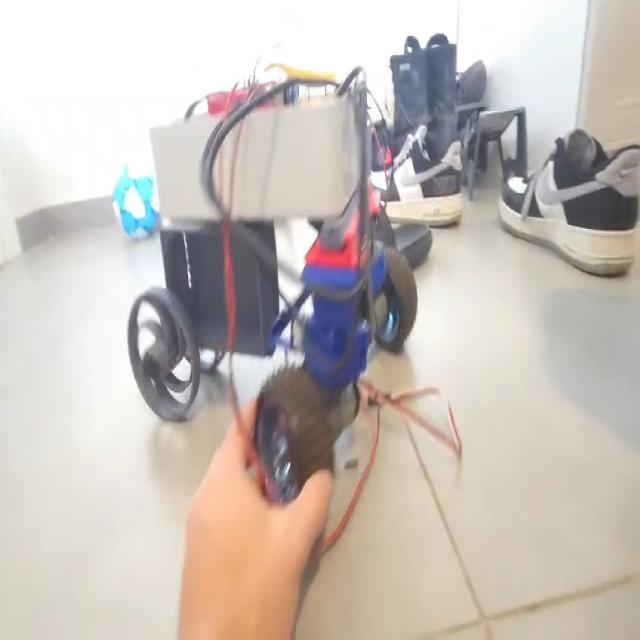Robot: (128, 49, 420, 511)
